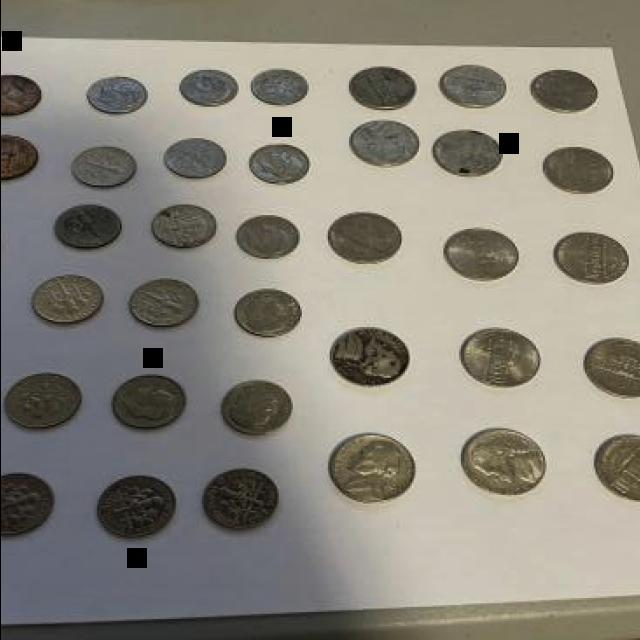Dime: (94, 469, 180, 542), (200, 469, 284, 535), (24, 269, 110, 329), (0, 372, 84, 432), (217, 378, 297, 440), (114, 376, 192, 436), (229, 287, 306, 339), (129, 280, 203, 334), (0, 474, 56, 540), (147, 203, 220, 252), (54, 203, 124, 252), (234, 214, 304, 262), (245, 142, 311, 190), (72, 144, 138, 192), (160, 140, 232, 182), (86, 77, 152, 119), (177, 68, 240, 110), (248, 68, 314, 106)
Nickel: (322, 430, 416, 507), (454, 428, 552, 501), (453, 326, 547, 392), (323, 324, 411, 394), (439, 220, 523, 286), (323, 208, 408, 271), (551, 229, 631, 289), (540, 142, 618, 200), (526, 66, 606, 118), (582, 334, 640, 404), (429, 126, 507, 178), (349, 120, 424, 170), (590, 432, 640, 506), (436, 63, 510, 112), (344, 63, 418, 112)
Penny: (0, 133, 47, 185), (0, 73, 46, 118), (0, 215, 8, 276)
